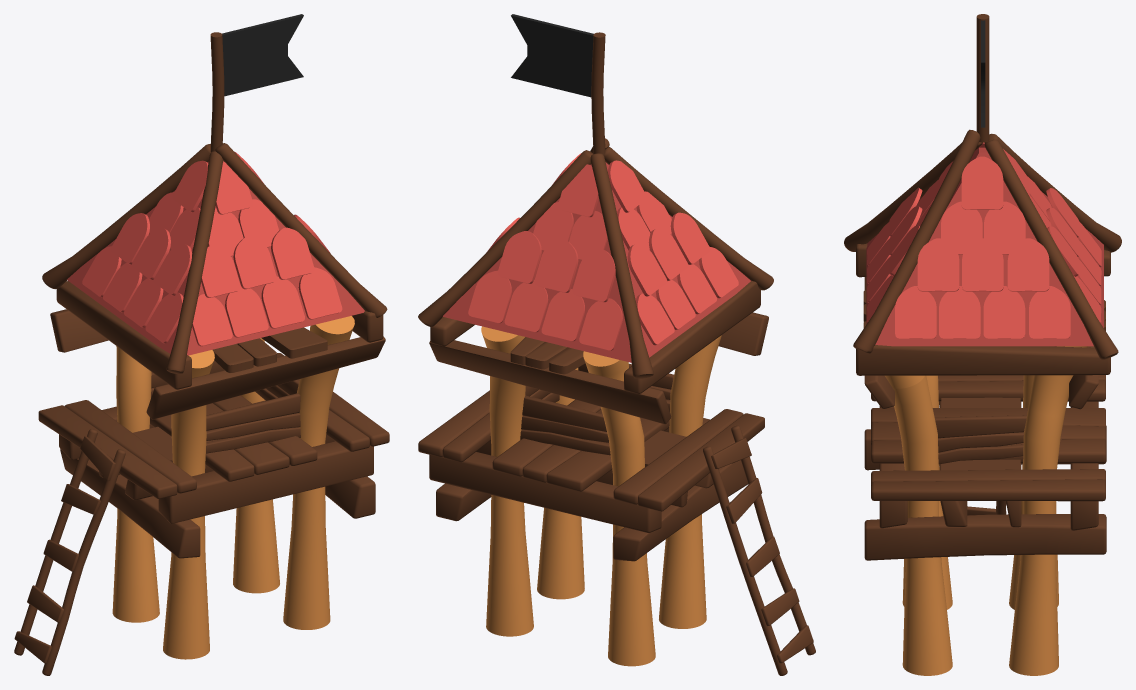
The model's file is wooden tower.fbx.
3 views of the same model, side by side, from view 1: azimuth 30°, elevation 25°; view 2: azimuth 150°, elevation 25°; view 3: azimuth 270°, elevation 25° (orthographic). The views are drawn at different scales.
Visible parts, largest first — view 1: Cube.039; view 2: Cube.039; view 3: Cube.039.
Part boxes in pixels (x1,y1,x2,y2): Cube.039: (14, 14, 389, 675); Cube.039: (418, 14, 815, 675); Cube.039: (844, 14, 1121, 675).
Bounding box in the file's own units: 1250 × 2204 × 902.
